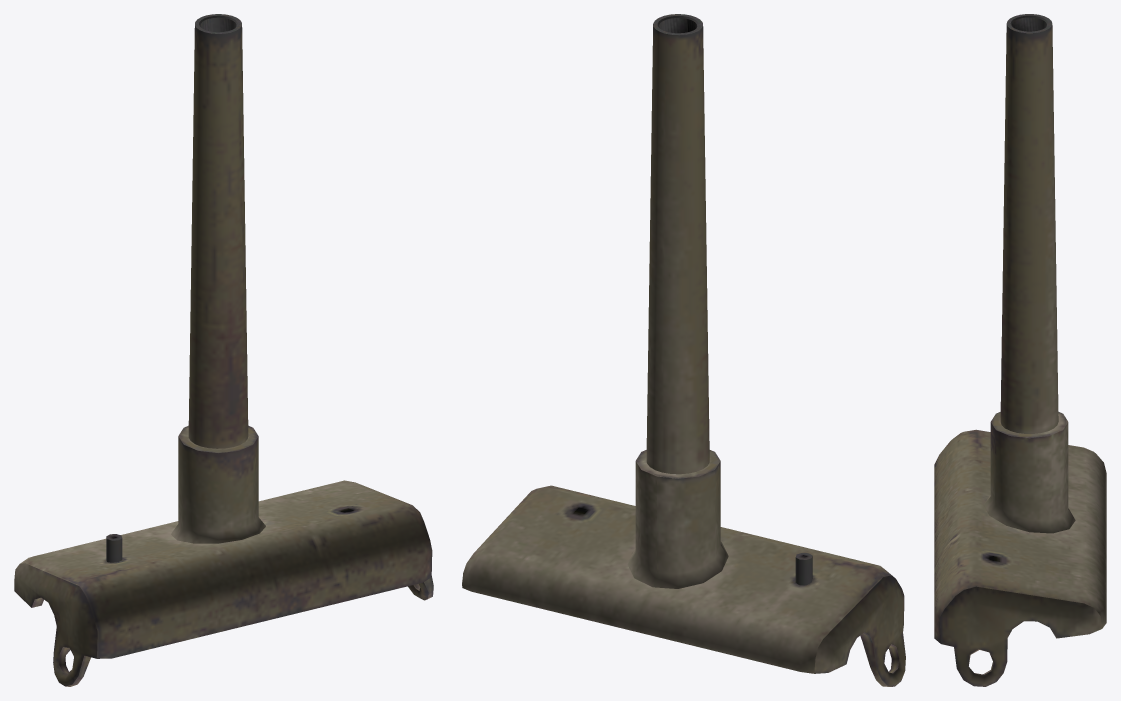
File: Gun_07.glb
3 views of the same model, side by side, from view 1: azimuth 30°, elevation 25°; view 2: azimuth 150°, elevation 25°; view 3: azimuth 270°, elevation 25° (orthographic). The views are drawn at different scales.
Parts seen in each view (by area): view 1: set_0_group_0; view 2: set_0_group_0; view 3: set_0_group_0.
Boxes of the visible parts, bbox=[...] form: set_0_group_0: bbox=[14, 14, 433, 686]; set_0_group_0: bbox=[462, 14, 905, 686]; set_0_group_0: bbox=[934, 14, 1106, 686].
Bounding box in the file's own units: 1.23 × 1.91 × 0.5169.
1 material, 1 textured.
